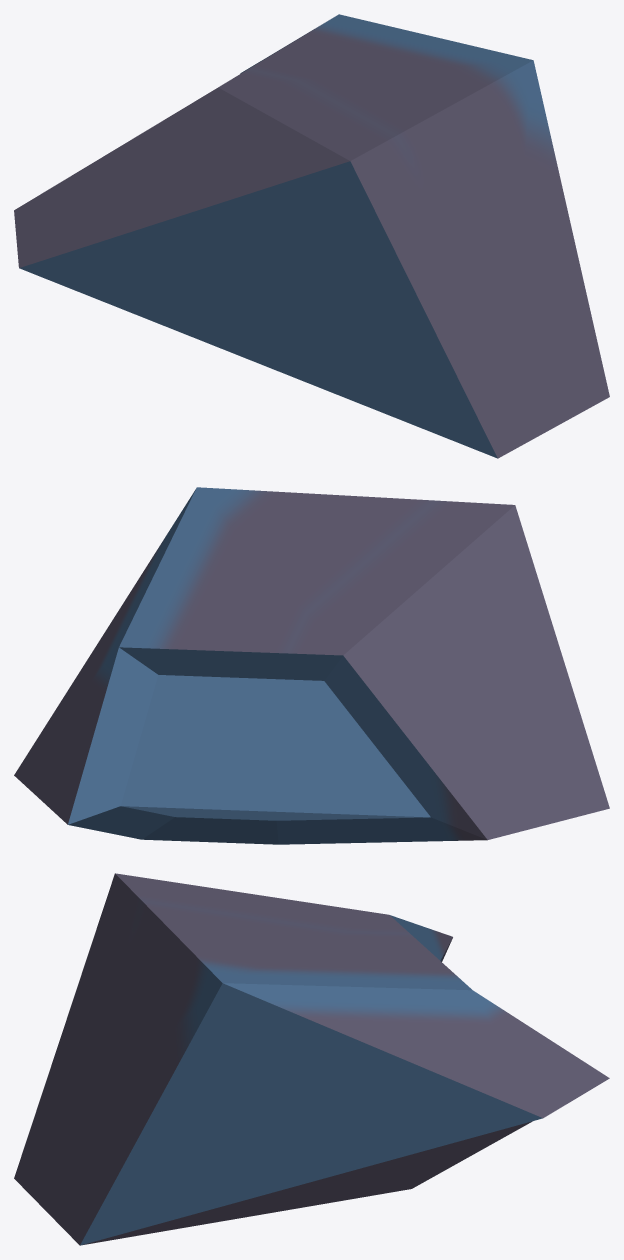
File: rightThruster.obj
3 views of the same model, one above another, from view 1: azimuth 30°, elevation 25°; view 2: azimuth 150°, elevation 25°; view 3: azimuth 270°, elevation 25° (orthographic). The views are drawn at different scales.
Parts seen in each view (by area): view 1: thruster_Right_Circle.006; view 2: thruster_Right_Circle.006; view 3: thruster_Right_Circle.006.
Part boxes in pixels (x1=…): thruster_Right_Circle.006: x1=14, y1=14, x2=609, y2=458; thruster_Right_Circle.006: x1=14, y1=487, x2=609, y2=844; thruster_Right_Circle.006: x1=14, y1=873, x2=609, y2=1245.
Size of the model in its own units: 0.3536 by 0.2104 by 0.433.
